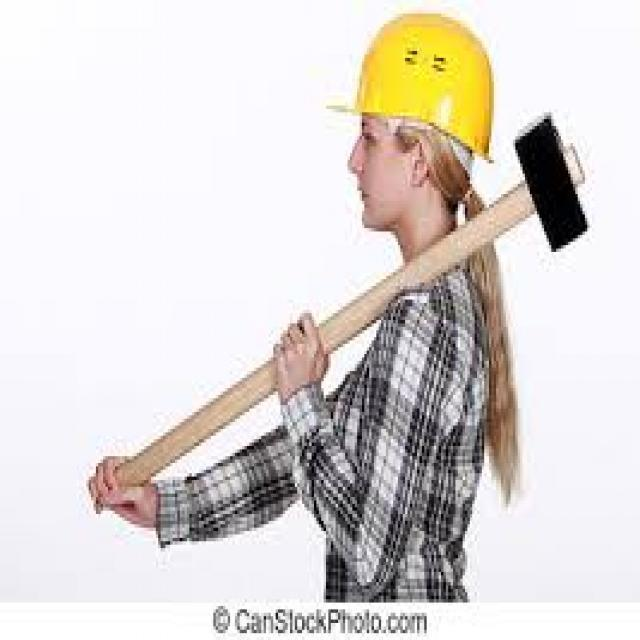hammer: (77, 106, 597, 532)
